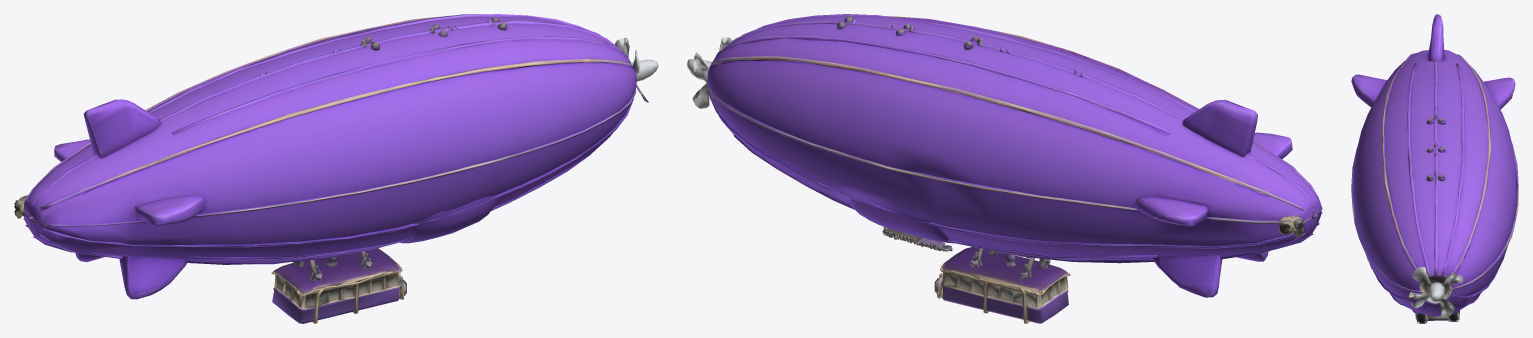
The model's file is r33-airship.glb.
3 views of the same model, side by side, from view 1: azimuth 30°, elevation 25°; view 2: azimuth 150°, elevation 25°; view 3: azimuth 270°, elevation 25° (orthographic). The views are drawn at different scales.
Visible parts, largest first — view 1: tripo_node_d87a76d9-8975-4714-8ef9-74fdbde0903c; view 2: tripo_node_d87a76d9-8975-4714-8ef9-74fdbde0903c; view 3: tripo_node_d87a76d9-8975-4714-8ef9-74fdbde0903c.
Boxes of the visible parts, box(x1,y1,x2,y2) form: tripo_node_d87a76d9-8975-4714-8ef9-74fdbde0903c: box(14, 14, 658, 323); tripo_node_d87a76d9-8975-4714-8ef9-74fdbde0903c: box(687, 14, 1322, 323); tripo_node_d87a76d9-8975-4714-8ef9-74fdbde0903c: box(1351, 14, 1518, 323).
Bounding box in the file's own units: 0.998 × 0.3926 × 0.2988.
Materials: 1 (1 with a texture image).
